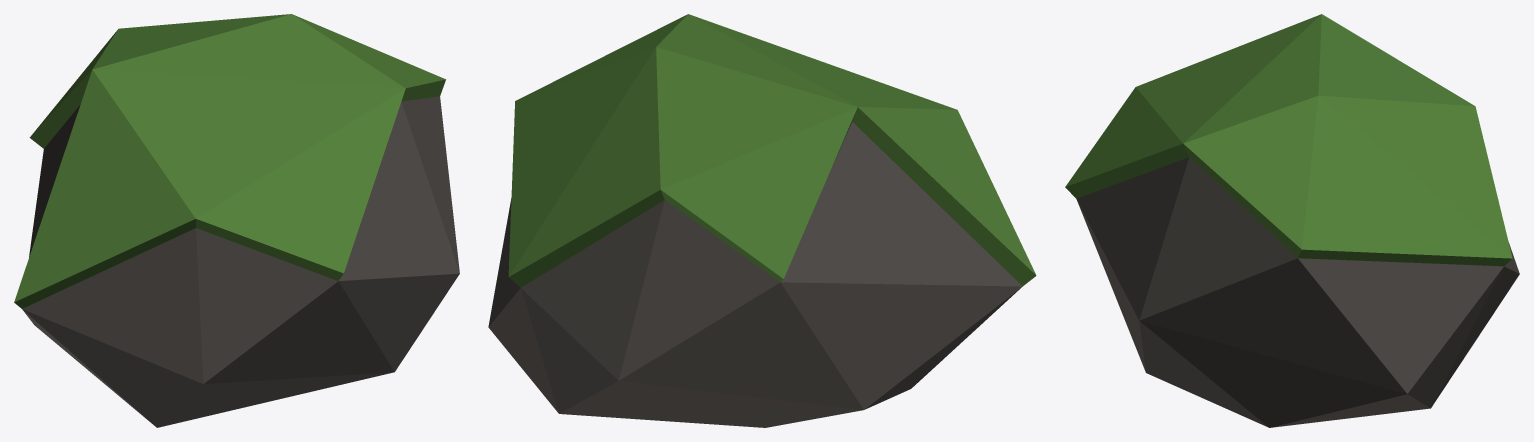
Rendered from rocher_foret_1.glb.
3 views of the same model, side by side, from view 1: azimuth 30°, elevation 25°; view 2: azimuth 150°, elevation 25°; view 3: azimuth 270°, elevation 25° (orthographic). The views are drawn at different scales.
Parts seen in each view (by area): view 1: mousse_mousse.006, roche_pierre_sombre.010; view 2: roche_pierre_sombre.010, mousse_mousse.006; view 3: roche_pierre_sombre.010, mousse_mousse.006.
Part boxes in pixels (x1=…): mousse_mousse.006: x1=14, y1=14, x2=445, y2=308; roche_pierre_sombre.010: x1=22, y1=96, x2=459, y2=427; roche_pierre_sombre.010: x1=488, y1=122, x2=1022, y2=427; mousse_mousse.006: x1=508, y1=14, x2=1036, y2=287; roche_pierre_sombre.010: x1=1076, y1=157, x2=1519, y2=427; mousse_mousse.006: x1=1065, y1=14, x2=1512, y2=266.
Size of the model in its own units: 0.8952 by 0.6104 by 0.808.
